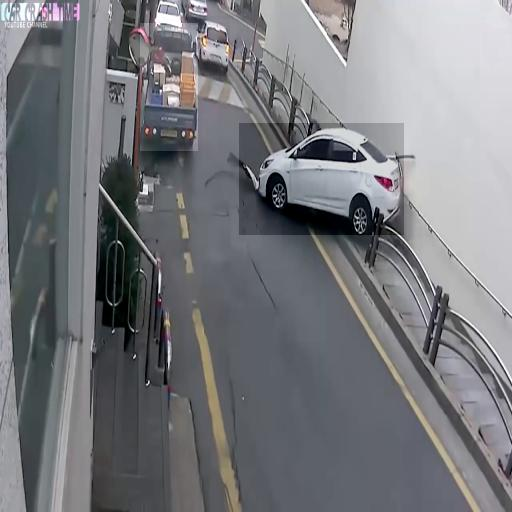小汽车: (140, 24, 198, 152), (195, 16, 230, 76)
小汽车撞物: (239, 123, 404, 235)
